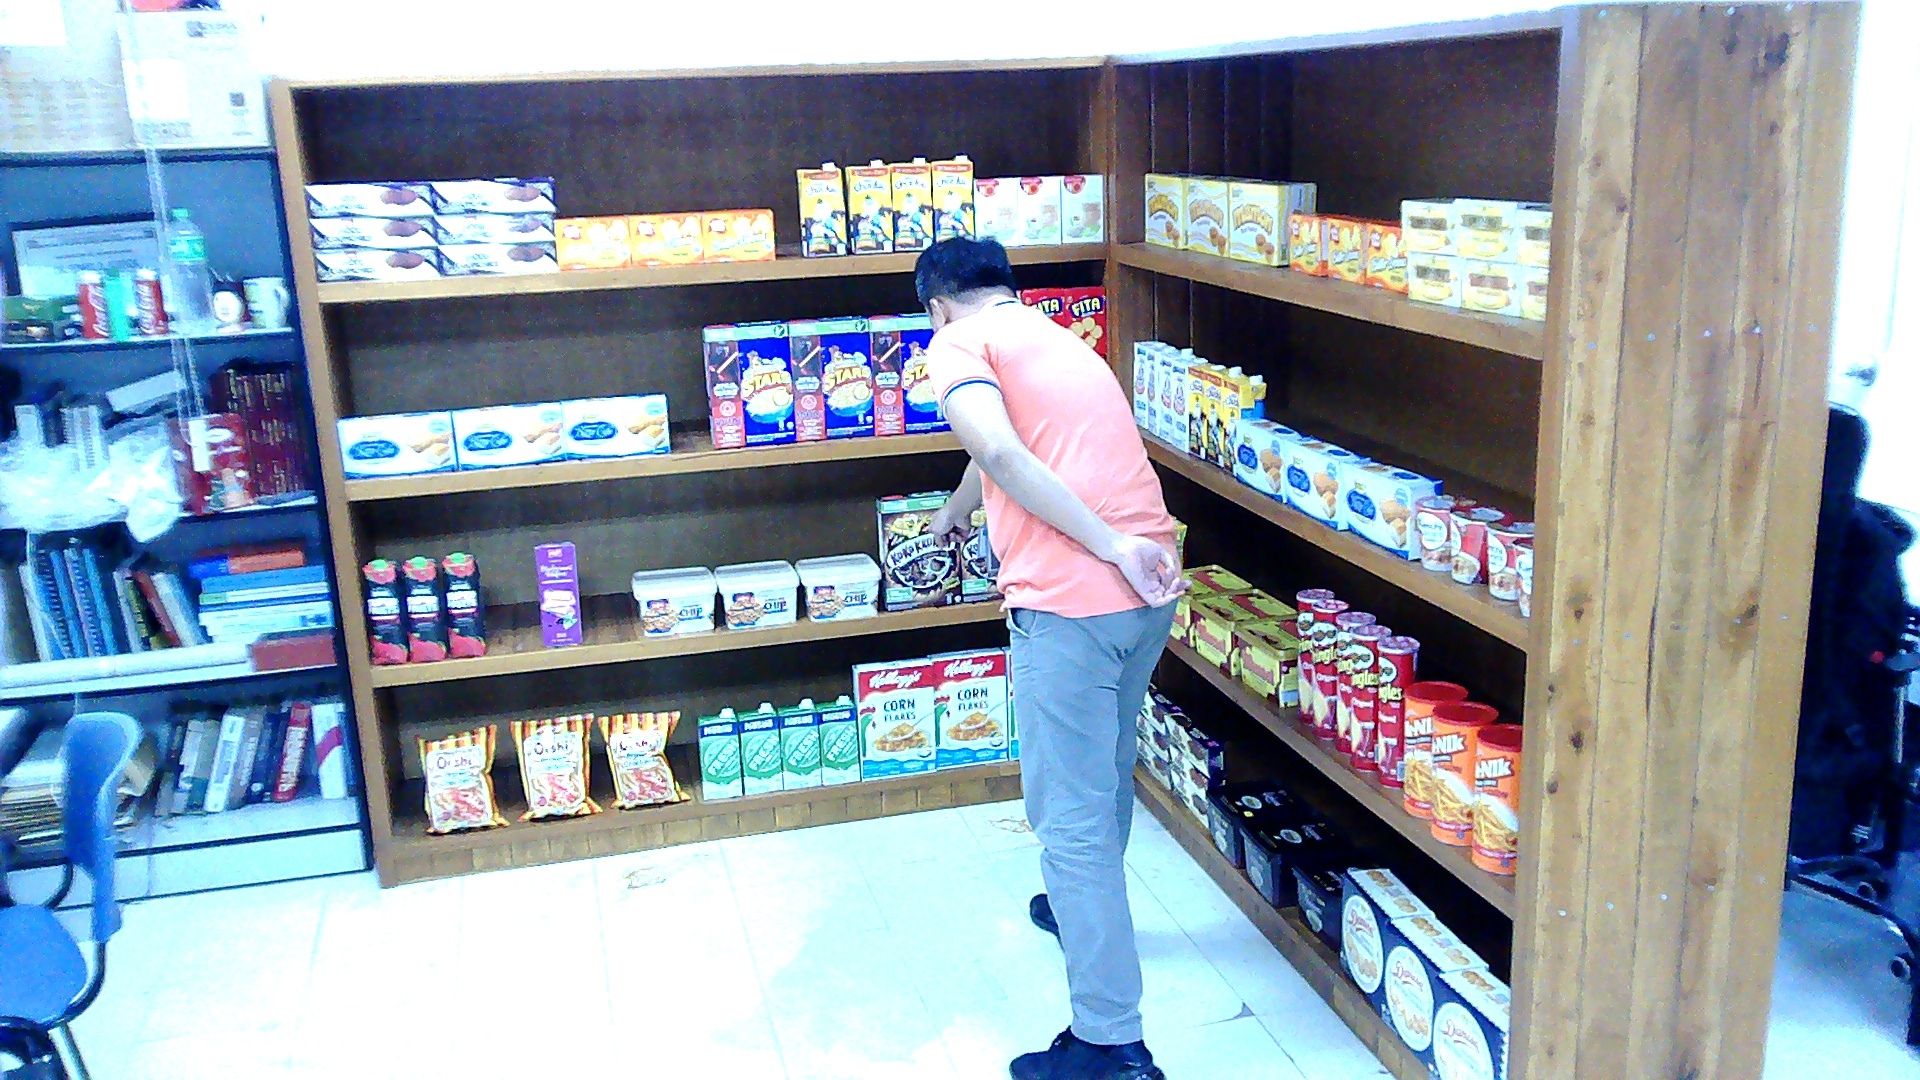Bear brand: (1170, 355, 1206, 452), (1158, 349, 1191, 441), (1134, 340, 1164, 428), (1145, 344, 1172, 434)
Buttercake: (1341, 459, 1440, 560), (1283, 434, 1370, 528), (453, 400, 567, 468), (336, 411, 453, 476), (561, 393, 669, 456), (1236, 416, 1305, 502)
Butterlicious: (552, 214, 630, 268), (627, 211, 702, 265), (1287, 211, 1350, 274), (1326, 216, 1386, 284), (699, 209, 774, 261), (1367, 220, 1406, 292)
Camomille: (1455, 198, 1518, 263), (1461, 261, 1521, 315), (1401, 200, 1455, 254), (1407, 254, 1461, 306), (1515, 202, 1551, 265), (1521, 268, 1548, 322)
Choco Crunchies: (429, 178, 555, 214), (312, 245, 438, 281), (308, 214, 437, 248), (306, 182, 432, 216), (438, 241, 555, 275), (431, 211, 554, 243), (1164, 711, 1224, 776), (1166, 740, 1223, 799), (1169, 767, 1208, 830), (1140, 682, 1182, 736), (1136, 738, 1169, 790), (1137, 715, 1167, 762)
Chocolate Chips: (629, 565, 716, 635), (711, 558, 798, 628), (791, 553, 878, 621)
Chuckie: (798, 162, 846, 256), (843, 160, 891, 252), (888, 158, 933, 250), (1224, 375, 1266, 474), (930, 153, 972, 241), (1206, 366, 1242, 467), (1188, 362, 1224, 459)
Danisa: (1380, 913, 1488, 1064), (1338, 868, 1434, 1012), (1425, 964, 1509, 1077)
Fita: (1065, 288, 1104, 353), (1020, 288, 1065, 324)
Fresh Milk: (735, 702, 783, 794), (696, 709, 741, 799), (812, 695, 857, 783), (777, 697, 819, 787)
Grahams: (1238, 807, 1355, 906), (1290, 846, 1398, 954), (1202, 776, 1307, 868)
Hansel: (1190, 587, 1295, 675), (1170, 564, 1251, 645), (1233, 614, 1296, 706)
Head: (912, 233, 1017, 330)
Honey Stars: (699, 320, 795, 448), (785, 315, 872, 439), (864, 312, 948, 434)
Kellogg Corn Flakes: (852, 657, 936, 781), (926, 646, 1007, 770)
Kimchi Noodles: (1449, 503, 1512, 582), (1416, 495, 1476, 569), (1485, 517, 1533, 598), (1512, 535, 1533, 616)
Koko Krunch: (876, 486, 960, 610)
Mamon: (1230, 178, 1314, 266), (1188, 175, 1260, 256), (1146, 171, 1203, 247)
Oishi Prawn: (507, 711, 603, 819), (414, 722, 507, 832), (596, 708, 689, 809)
Pik-nik: (1428, 700, 1497, 844), (1403, 679, 1466, 819), (1469, 722, 1520, 873)
Pringles: (1377, 636, 1419, 787), (1349, 623, 1388, 769), (1335, 612, 1374, 752), (1295, 587, 1334, 724), (1311, 598, 1347, 738)
Super Fruits: (362, 558, 407, 664), (440, 551, 485, 657), (402, 556, 444, 662)
Wafer: (534, 540, 582, 643)
iHop: (1059, 173, 1101, 243), (975, 177, 1017, 245), (1017, 175, 1059, 243)
